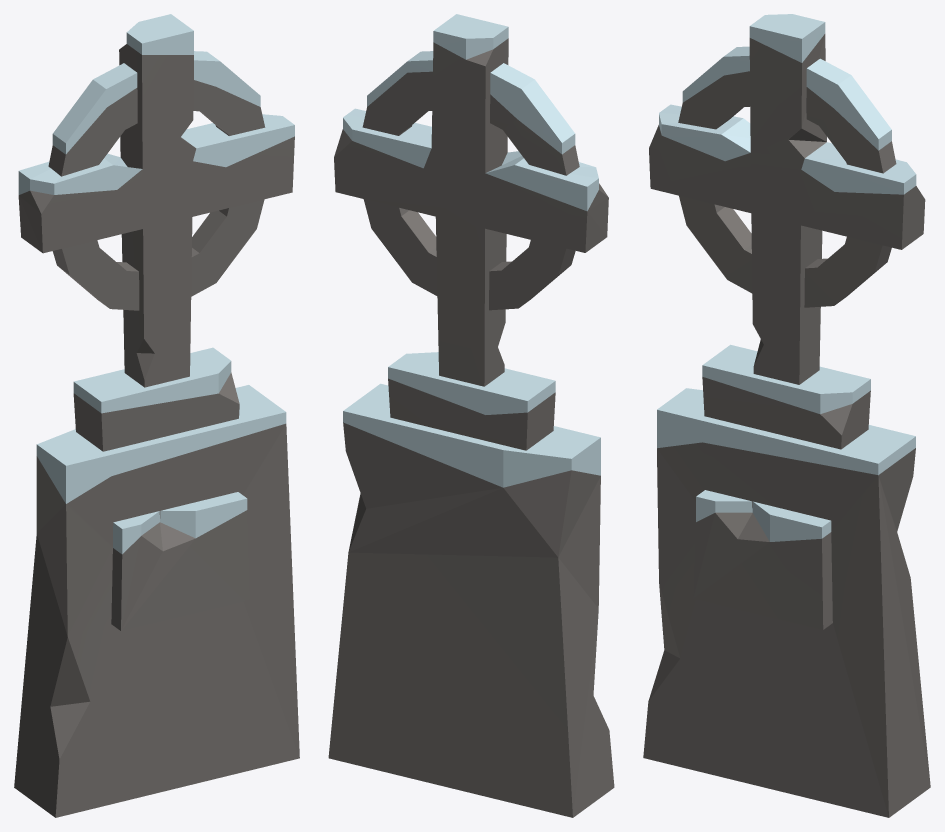
The model's file is SM_Prop_Gravestone_01_Snow.gltf.
The picture shows the model from 3 angles, left to right: view 1: azimuth 30°, elevation 25°; view 2: azimuth 150°, elevation 25°; view 3: azimuth 330°, elevation 25°; orthographic projection.
Visible parts, largest first — view 1: SM_Prop_Gravestone_01_Snow; view 2: SM_Prop_Gravestone_01_Snow; view 3: SM_Prop_Gravestone_01_Snow.
Boxes of the visible parts, x1,y1,x2,y2 form: SM_Prop_Gravestone_01_Snow: (14, 14, 299, 817); SM_Prop_Gravestone_01_Snow: (328, 14, 614, 817); SM_Prop_Gravestone_01_Snow: (643, 14, 930, 817).
Size of the model in its own units: 0.4821 by 1.35 by 0.1618.
Materials: 1 (1 with a texture image).
